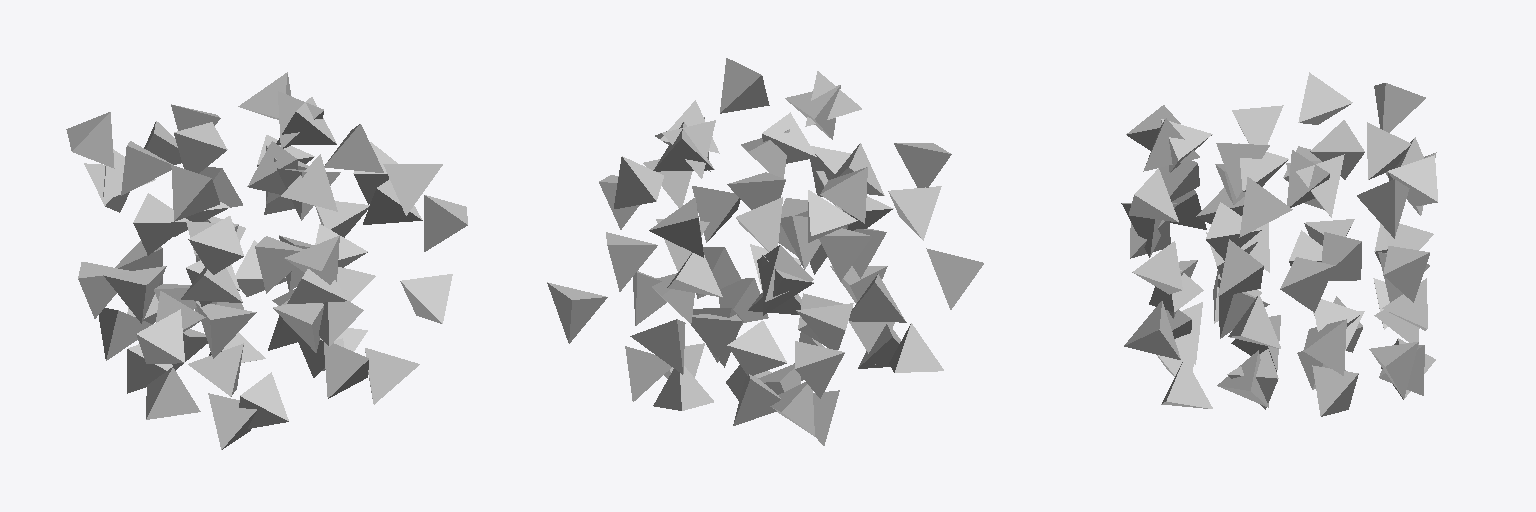
File: sandv2.obj
3 views of the same model, side by side, from view 1: azimuth 30°, elevation 25°; view 2: azimuth 150°, elevation 25°; view 3: azimuth 270°, elevation 25° (orthographic).
Parts seen in each view (by area): view 1: Plane.004_Plane.569; view 2: Plane.004_Plane.569; view 3: Plane.004_Plane.569.
Part boxes in pixels (left/top/right/bottom): Plane.004_Plane.569: left=66, top=72, right=467, bottom=449; Plane.004_Plane.569: left=547, top=58, right=983, bottom=445; Plane.004_Plane.569: left=1121, top=72, right=1437, bottom=416.
Size of the model in its own units: 0.2857 by 0.2299 by 0.2329.